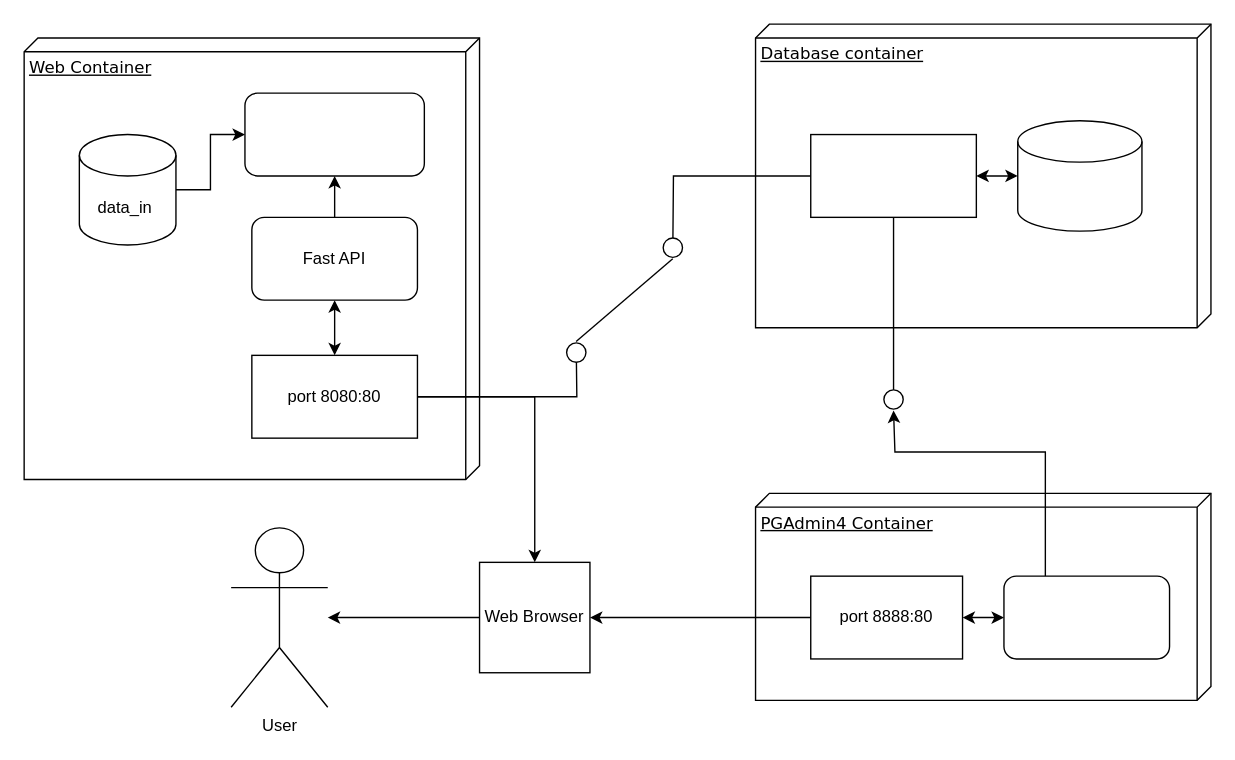
Some shapes in this 1235 by 760 pixel diagram are drawn without their labels. Each missing label, with the centre of its shape:
"PgAdmin 4 Instance" belongs at point (1086, 617).
"port 5432:5432" belongs at point (892, 175).
"Postgresql Instance" belongs at point (1079, 175).
"Utilities for data processing & upload" belongs at point (334, 134).
